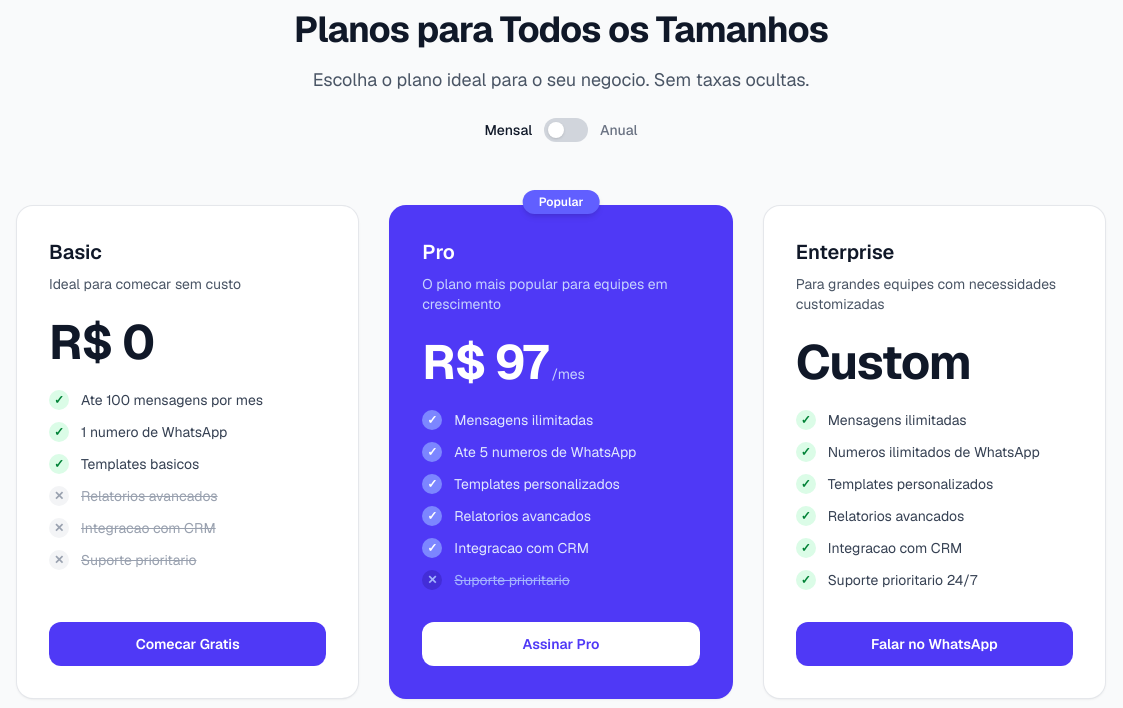
Test: PricingSection › switches to annual billing when toggle is clicked, showing discounted price
Click the switch: point(566, 130) [544,118,588,142]
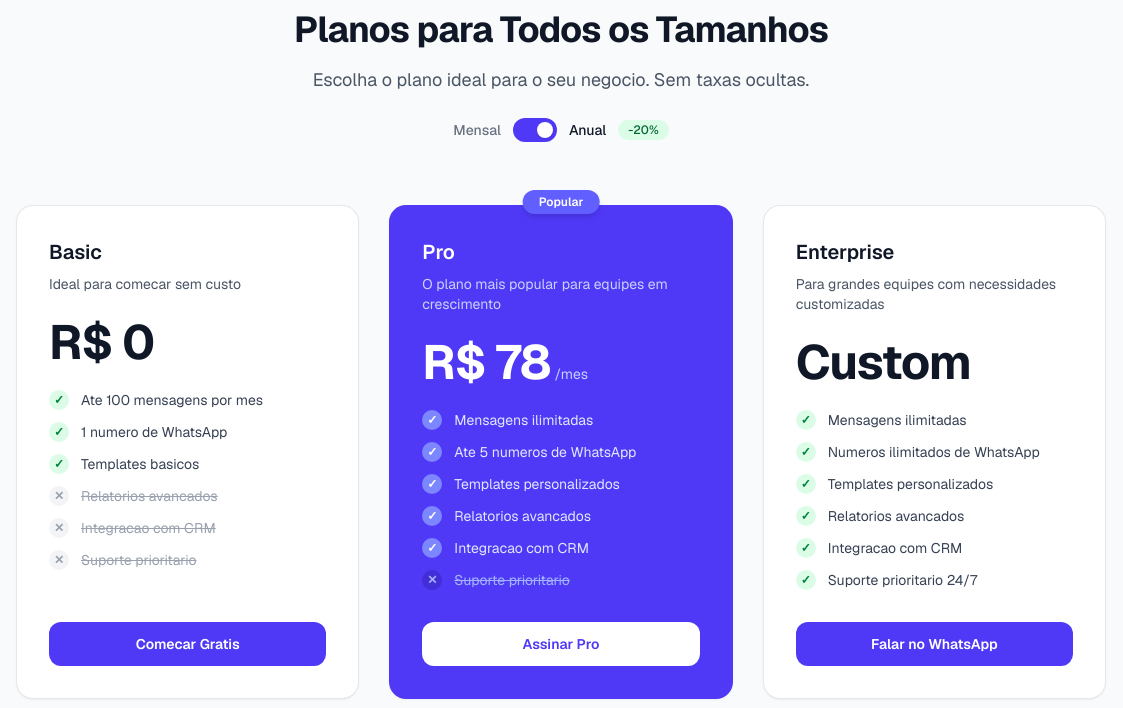
Now the text "R$ 78" is shown, box [422,331,550,393]
Now the text "R$ 97" is gone
